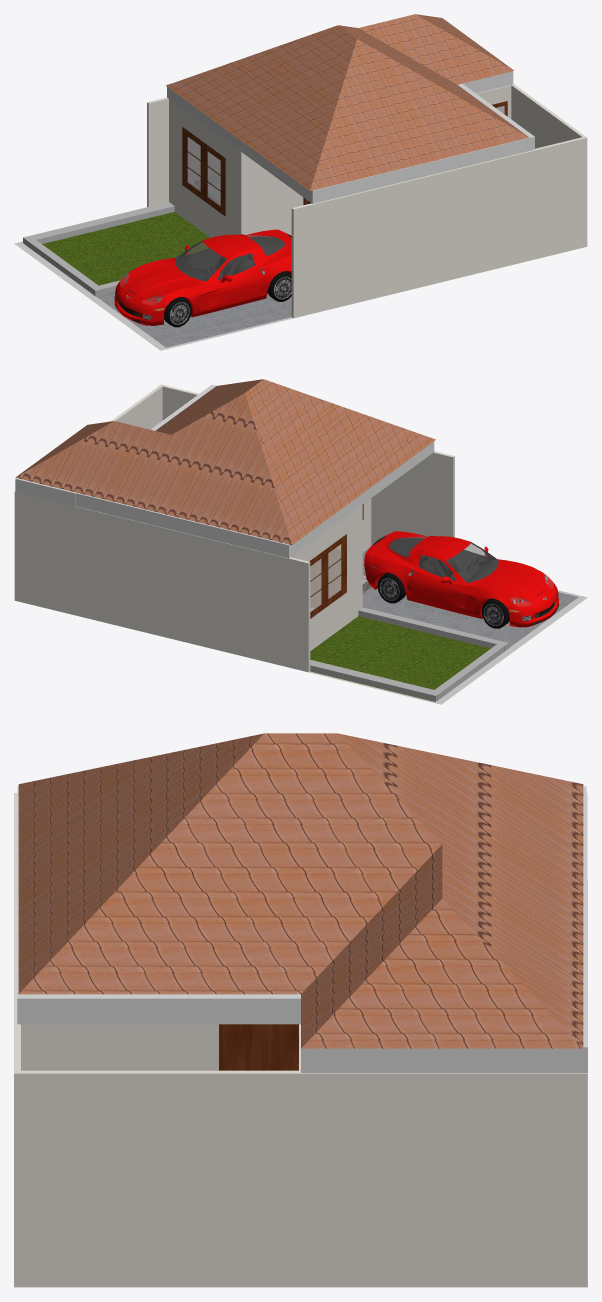
3 renders of one model, top to bottom at view 1: azimuth 30°, elevation 25°; view 2: azimuth 150°, elevation 25°; view 3: azimuth 270°, elevation 25°, orthographic. The views are drawn at different scales.
Parts seen in each view (by area): view 1: rumah6-exte; view 2: rumah6-exte; view 3: rumah6-exte.
Boxes of the visible parts, <box> form: rumah6-exte: <box>14,14,587,350</box>; rumah6-exte: <box>14,379,587,704</box>; rumah6-exte: <box>14,733,587,1287</box>.
Size of the model in its own units: 1026 by 463 by 610.
Materials: 81 (27 with a texture image).
